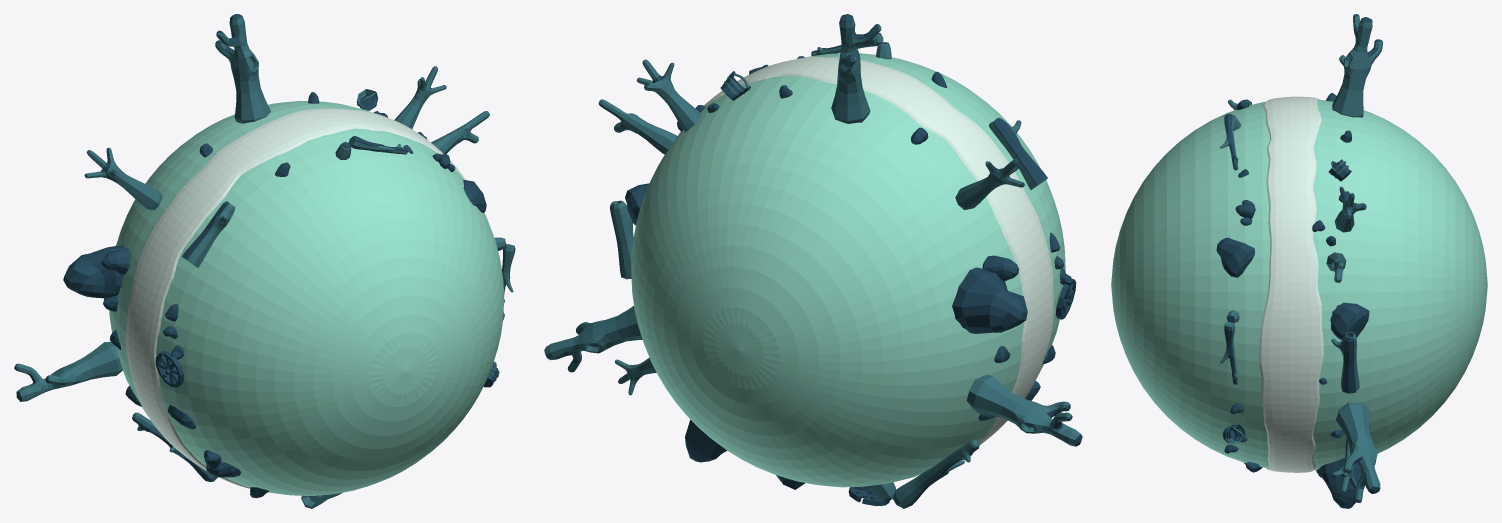
File: cenário (1).fbx
3 renders of one model, left to right at view 1: azimuth 30°, elevation 25°; view 2: azimuth 150°, elevation 25°; view 3: azimuth 270°, elevation 25°, orthographic. The views are drawn at different scales.
Parts seen in each view (by area): view 1: Sphere, Cube.001, Vert.002, Vert.009, Cube.009, Vert.005, Vert.001, Vert.006, Vert.008, Vert, Cylinder, Vert.012 (+2 smaller); view 2: Sphere, Cube.001, Vert.009, Cube.009, Vert.002, Vert.010, Vert.012, Vert.006, Vert.001, Vert.005, Vert.008, Vert.007 (+4 smaller); view 3: Sphere, Cube.001, Vert.002, Vert.010, Cube.031, Cube.018, Cube.023, Vert.007, Vert.006, Vert.011, Vert.
Boxes of the visible parts, left/top/right/bottom form: Sphere: left=109, top=101, right=504, bottom=495; Cube.001: left=125, top=108, right=465, bottom=492; Vert.002: left=215, top=14, right=270, bottom=123; Vert.009: left=14, top=341, right=122, bottom=401; Cube.009: left=63, top=245, right=124, bottom=298; Vert.005: left=84, top=147, right=162, bottom=210; Vert.001: left=182, top=201, right=235, bottom=267; Vert.006: left=394, top=66, right=446, bottom=128; Vert.008: left=431, top=111, right=489, bottom=154; Vert: left=335, top=136, right=408, bottom=159; Cylinder: left=155, top=351, right=183, bottom=387; Vert.012: left=132, top=412, right=217, bottom=481; Sphere: left=631, top=53, right=1065, bottom=487; Cube.001: left=677, top=56, right=1053, bottom=444; Vert.009: left=966, top=374, right=1082, bottom=446; Cube.009: left=952, top=267, right=1027, bottom=333; Vert.002: left=831, top=14, right=881, bottom=123; Vert.010: left=544, top=306, right=642, bottom=372; Vert.012: left=866, top=440, right=979, bottom=508; Vert.006: left=636, top=59, right=701, bottom=131; Vert.001: left=989, top=118, right=1047, bottom=189; Vert.005: left=955, top=159, right=1024, bottom=210; Vert.008: left=598, top=99, right=677, bottom=154; Vert.007: left=610, top=200, right=633, bottom=279; Sphere: left=1111, top=99, right=1487, bottom=470; Cube.001: left=1258, top=96, right=1323, bottom=472; Vert.002: left=1332, top=14, right=1382, bottom=117; Vert.010: left=1336, top=402, right=1380, bottom=502; Cube.031: left=1319, top=457, right=1361, bottom=508; Cube.018: left=1330, top=302, right=1369, bottom=340; Cube.023: left=1216, top=237, right=1254, bottom=277; Vert.007: left=1331, top=331, right=1359, bottom=393; Vert.006: left=1334, top=186, right=1366, bottom=232; Vert.011: left=1220, top=310, right=1239, bottom=384; Vert: left=1220, top=113, right=1241, bottom=170.
Bounding box in the file's own units: 993 × 879 × 705.
